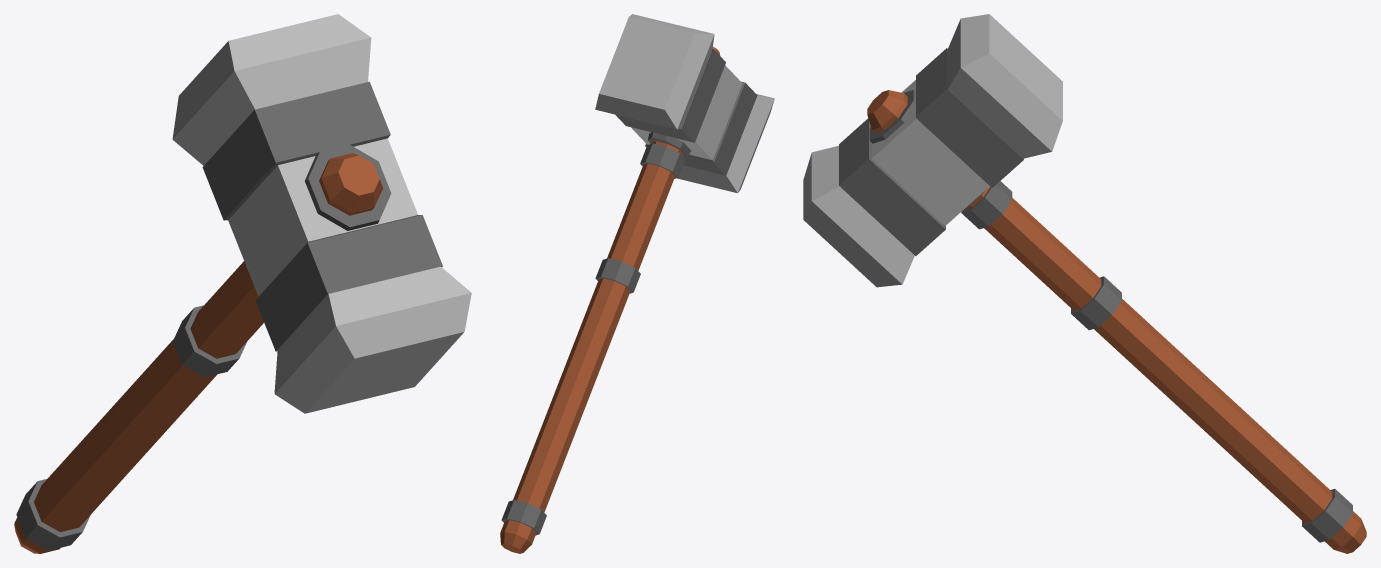
The model's file is battle_hammer.glb.
The picture shows the model from 3 angles, left to right: view 1: azimuth 30°, elevation 25°; view 2: azimuth 150°, elevation 25°; view 3: azimuth 270°, elevation 25°; orthographic projection. The views are drawn at different scales.
Parts seen in each view (by area): view 1: Cube.001; view 2: Cube.001; view 3: Cube.001.
Part boxes in pixels (bbox=[...]): Cube.001: bbox=[14, 14, 471, 553]; Cube.001: bbox=[500, 14, 774, 553]; Cube.001: bbox=[803, 14, 1366, 553].
Size of the model in its own units: 0.2288 by 1.12 by 1.11.
